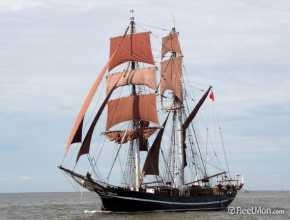fanchuan: (60, 7, 242, 210)
